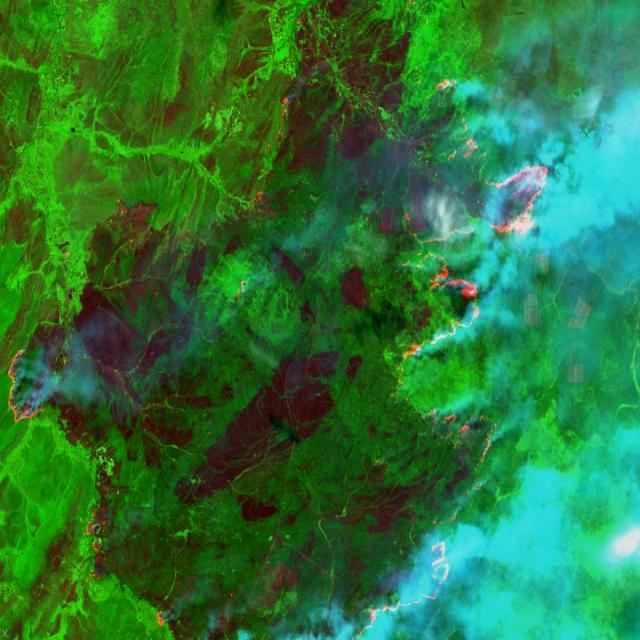fire: (350, 75, 554, 640), (0, 337, 51, 425)
